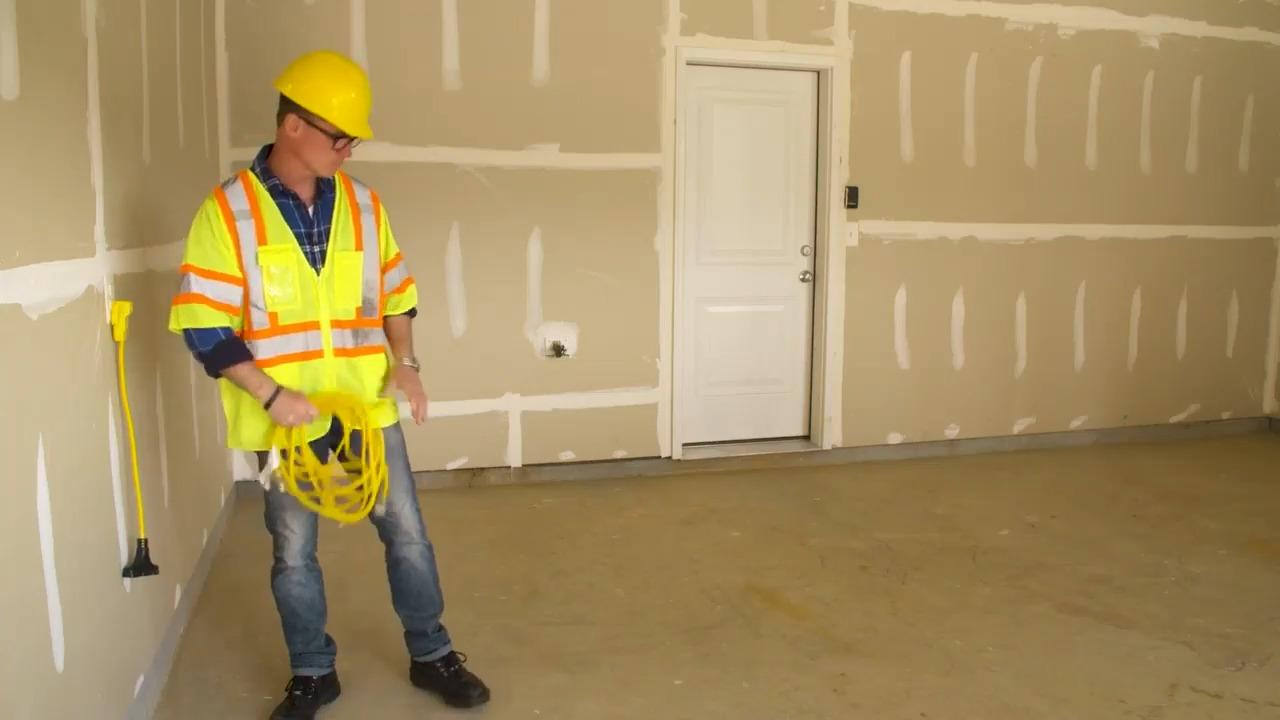Helmet: (278, 52, 382, 141)
Person: (167, 29, 484, 720)
Safety Boot: (268, 668, 341, 718), (413, 662, 474, 705)
Safety Vest: (216, 198, 384, 421)
bare-arms: (389, 360, 440, 442), (271, 380, 330, 427)
